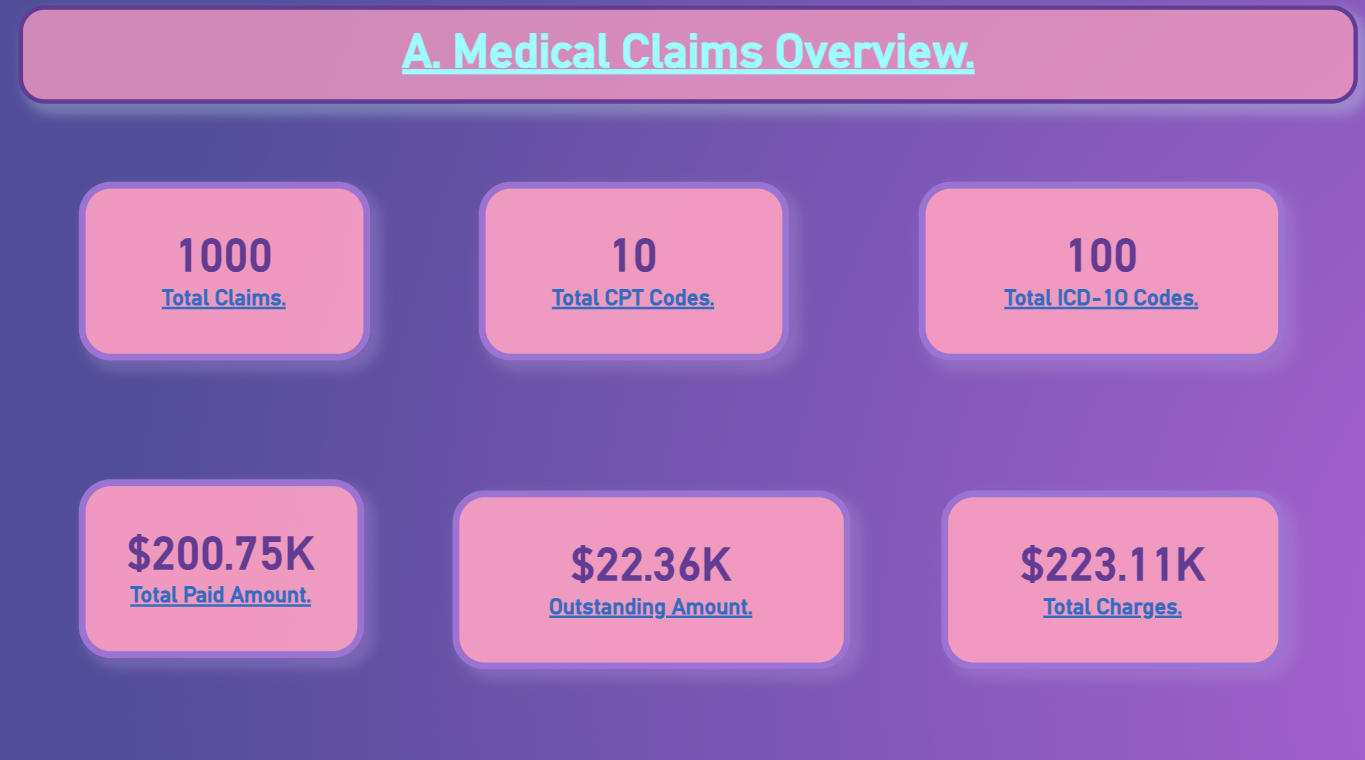

The page's visual inventory and layout, read from the dashboard file:
{"tool":"powerbi","page":{"name":"A. Overview","canvas":[1280,720],"ordinal":0},"visuals":[{"type":"card","fields":{"Values":["Count(claims_data_cleaned.Claim ID)"]},"box":[78.3,176.1,271.5,166.3],"z":0},{"type":"card","fields":{"Values":["Sum(claims_data_cleaned.Paid Amount)"]},"box":[78.3,452.4,265.4,166.3],"z":1000},{"type":"card","fields":{"Values":["Max(claims_data_cleaned.Outstanding Amount)"]},"box":[425.5,462.2,370.5,166.3],"z":2000},{"type":"card","fields":{"Values":["Sum(claims_data_cleaned.Allowed Amount)"]},"box":[880.4,462.2,320.4,166.3],"z":3000},{"type":"card","fields":{"Values":["Count(claims_data_cleaned.Procedure_Code)"]},"box":[450,176.1,288.6,166.3],"z":4000},{"type":"card","fields":{"Values":["Count(claims_data_cleaned.Diagnosis_Code)"]},"box":[859.7,176.1,341.2,166.3],"z":5000},{"type":"textbox","box":[21.6,11.4,1245.7,91.3],"z":5001}]}

Visuals, with their boxes in screenshot pixels (x1, y1, x2, y2), scaled from the page's 1280x720 canvas onto the 1365x760 screenshot:
card - Count(claims_data_cleaned.Claim ID): 83, 186, 373, 361
card - Sum(claims_data_cleaned.Paid Amount): 83, 478, 367, 653
card - Max(claims_data_cleaned.Outstanding Amount): 454, 488, 849, 663
card - Sum(claims_data_cleaned.Allowed Amount): 939, 488, 1281, 663
card - Count(claims_data_cleaned.Procedure_Code): 480, 186, 788, 361
card - Count(claims_data_cleaned.Diagnosis_Code): 917, 186, 1281, 361
textbox: 23, 12, 1351, 108
